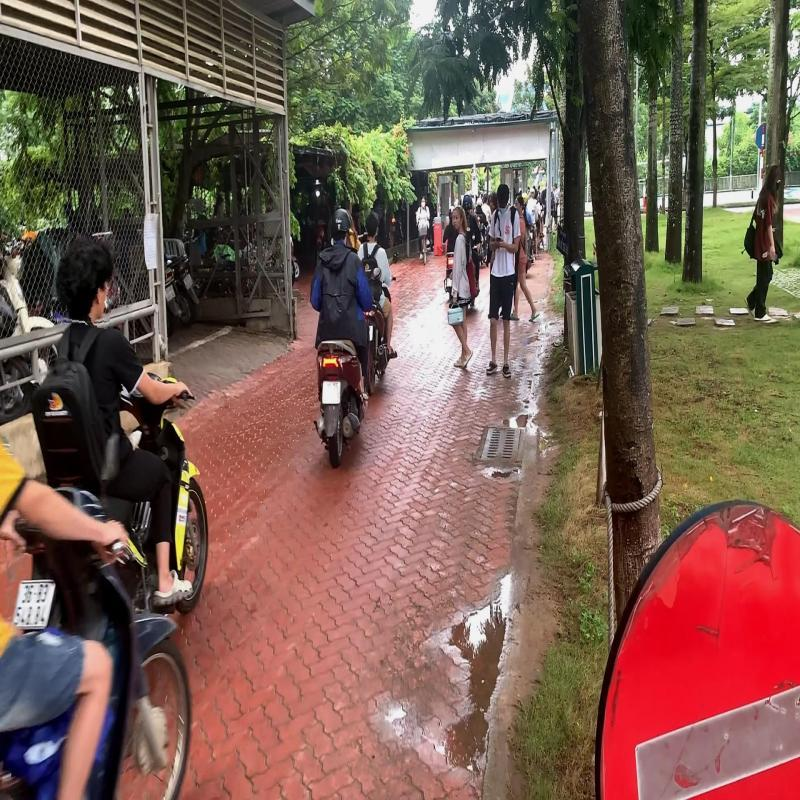nohelmet: (51, 233, 119, 327), (364, 208, 382, 242)
